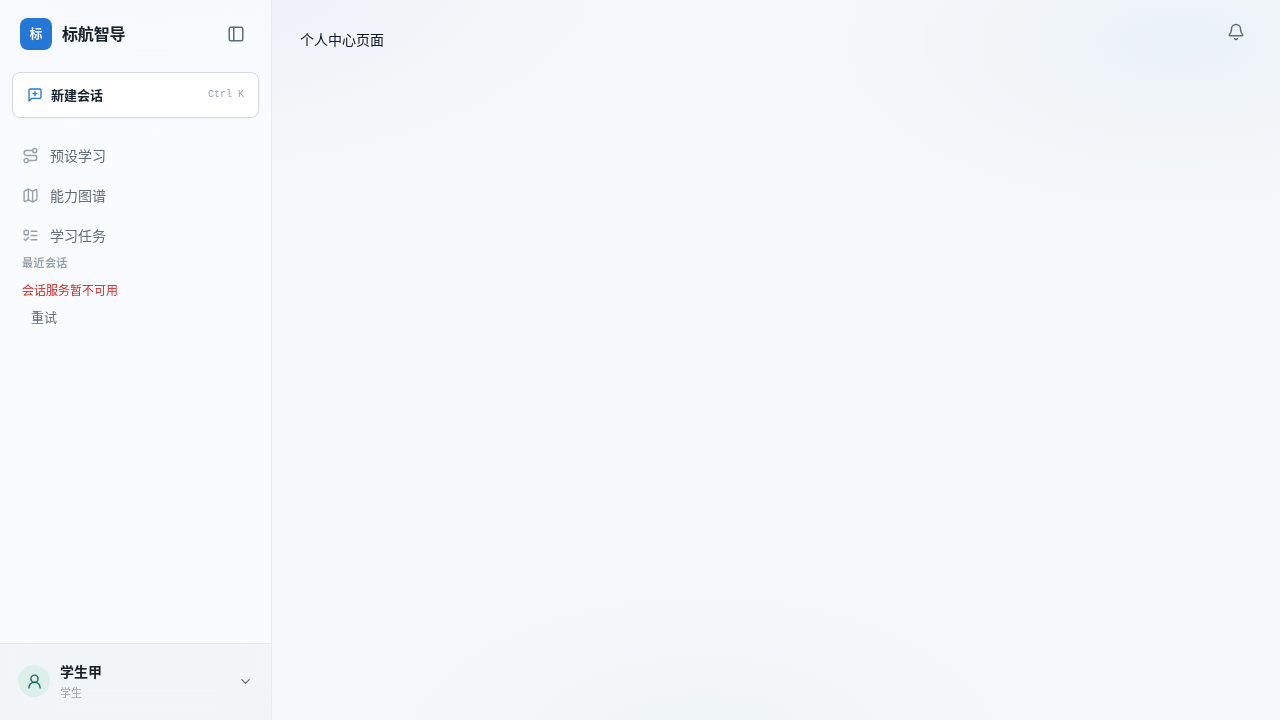
学生工作台全局会话栏 › 会话列表加载失败时保留可访问重试入口
Expected: the message shows "会话服务暂不可用", top-left (22, 281), bottom-right (118, 298)
Click the button "重试" at x=136, y=317, box top-left (22, 303), bottom-right (249, 331)
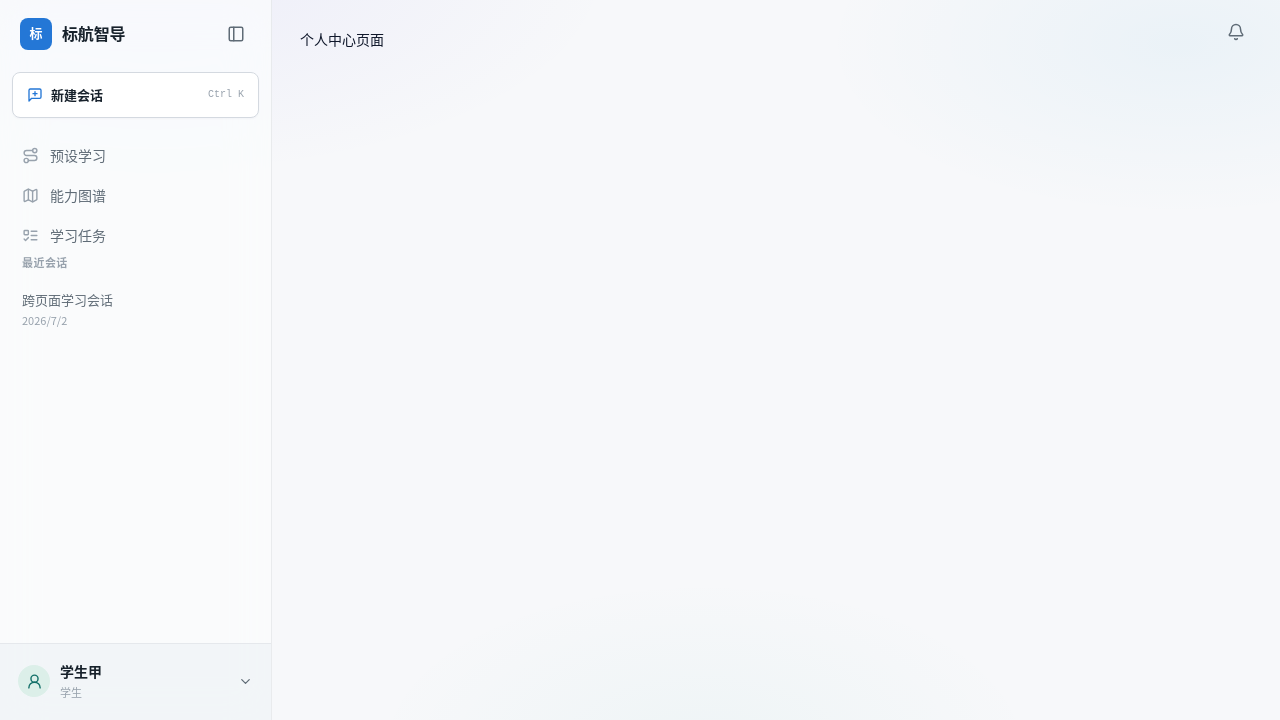
Expected: the text "跨页面学习会话" is shown, top-left (22, 290), bottom-right (113, 309)
